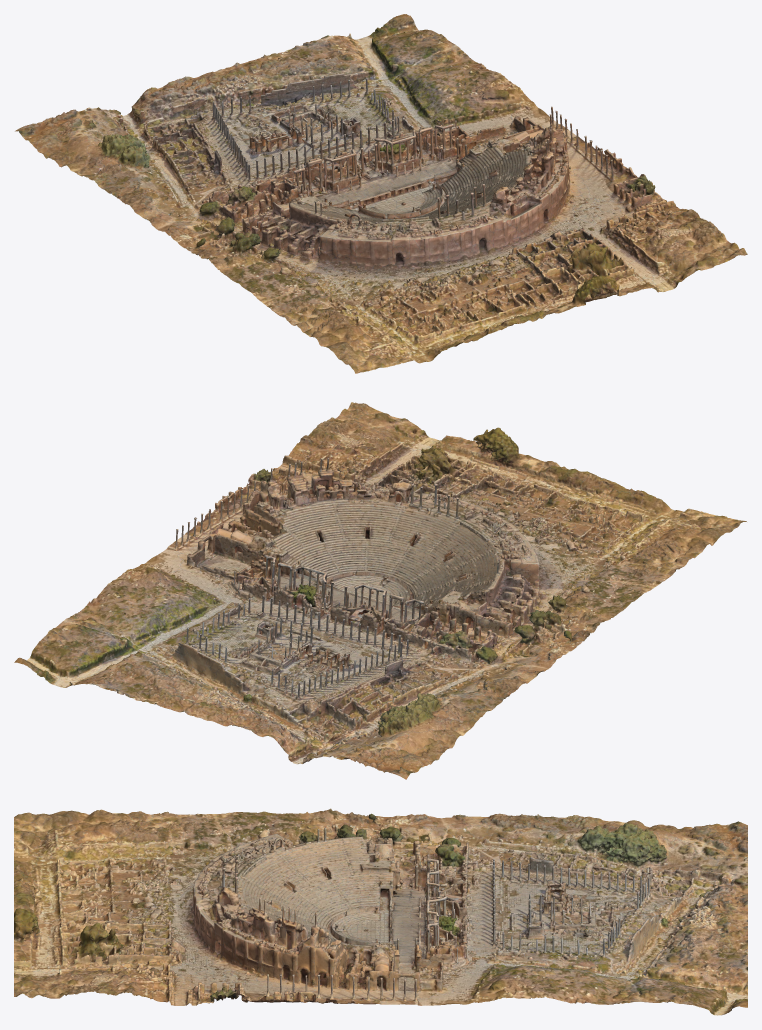
3 renders of one model, top to bottom at view 1: azimuth 30°, elevation 25°; view 2: azimuth 150°, elevation 25°; view 3: azimuth 270°, elevation 25°, orthographic. The views are drawn at different scales.
Parts seen in each view (by area): view 1: LBY_002_M2_Theatre; view 2: LBY_002_M2_Theatre; view 3: LBY_002_M2_Theatre.
Boxes of the visible parts, x1,y1,x2,y2 form: LBY_002_M2_Theatre: (15, 14, 747, 373); LBY_002_M2_Theatre: (14, 402, 746, 779); LBY_002_M2_Theatre: (14, 808, 747, 1015).
Size of the model in its own units: 115 by 26.13 by 173.
Materials: 1 (1 with a texture image).
